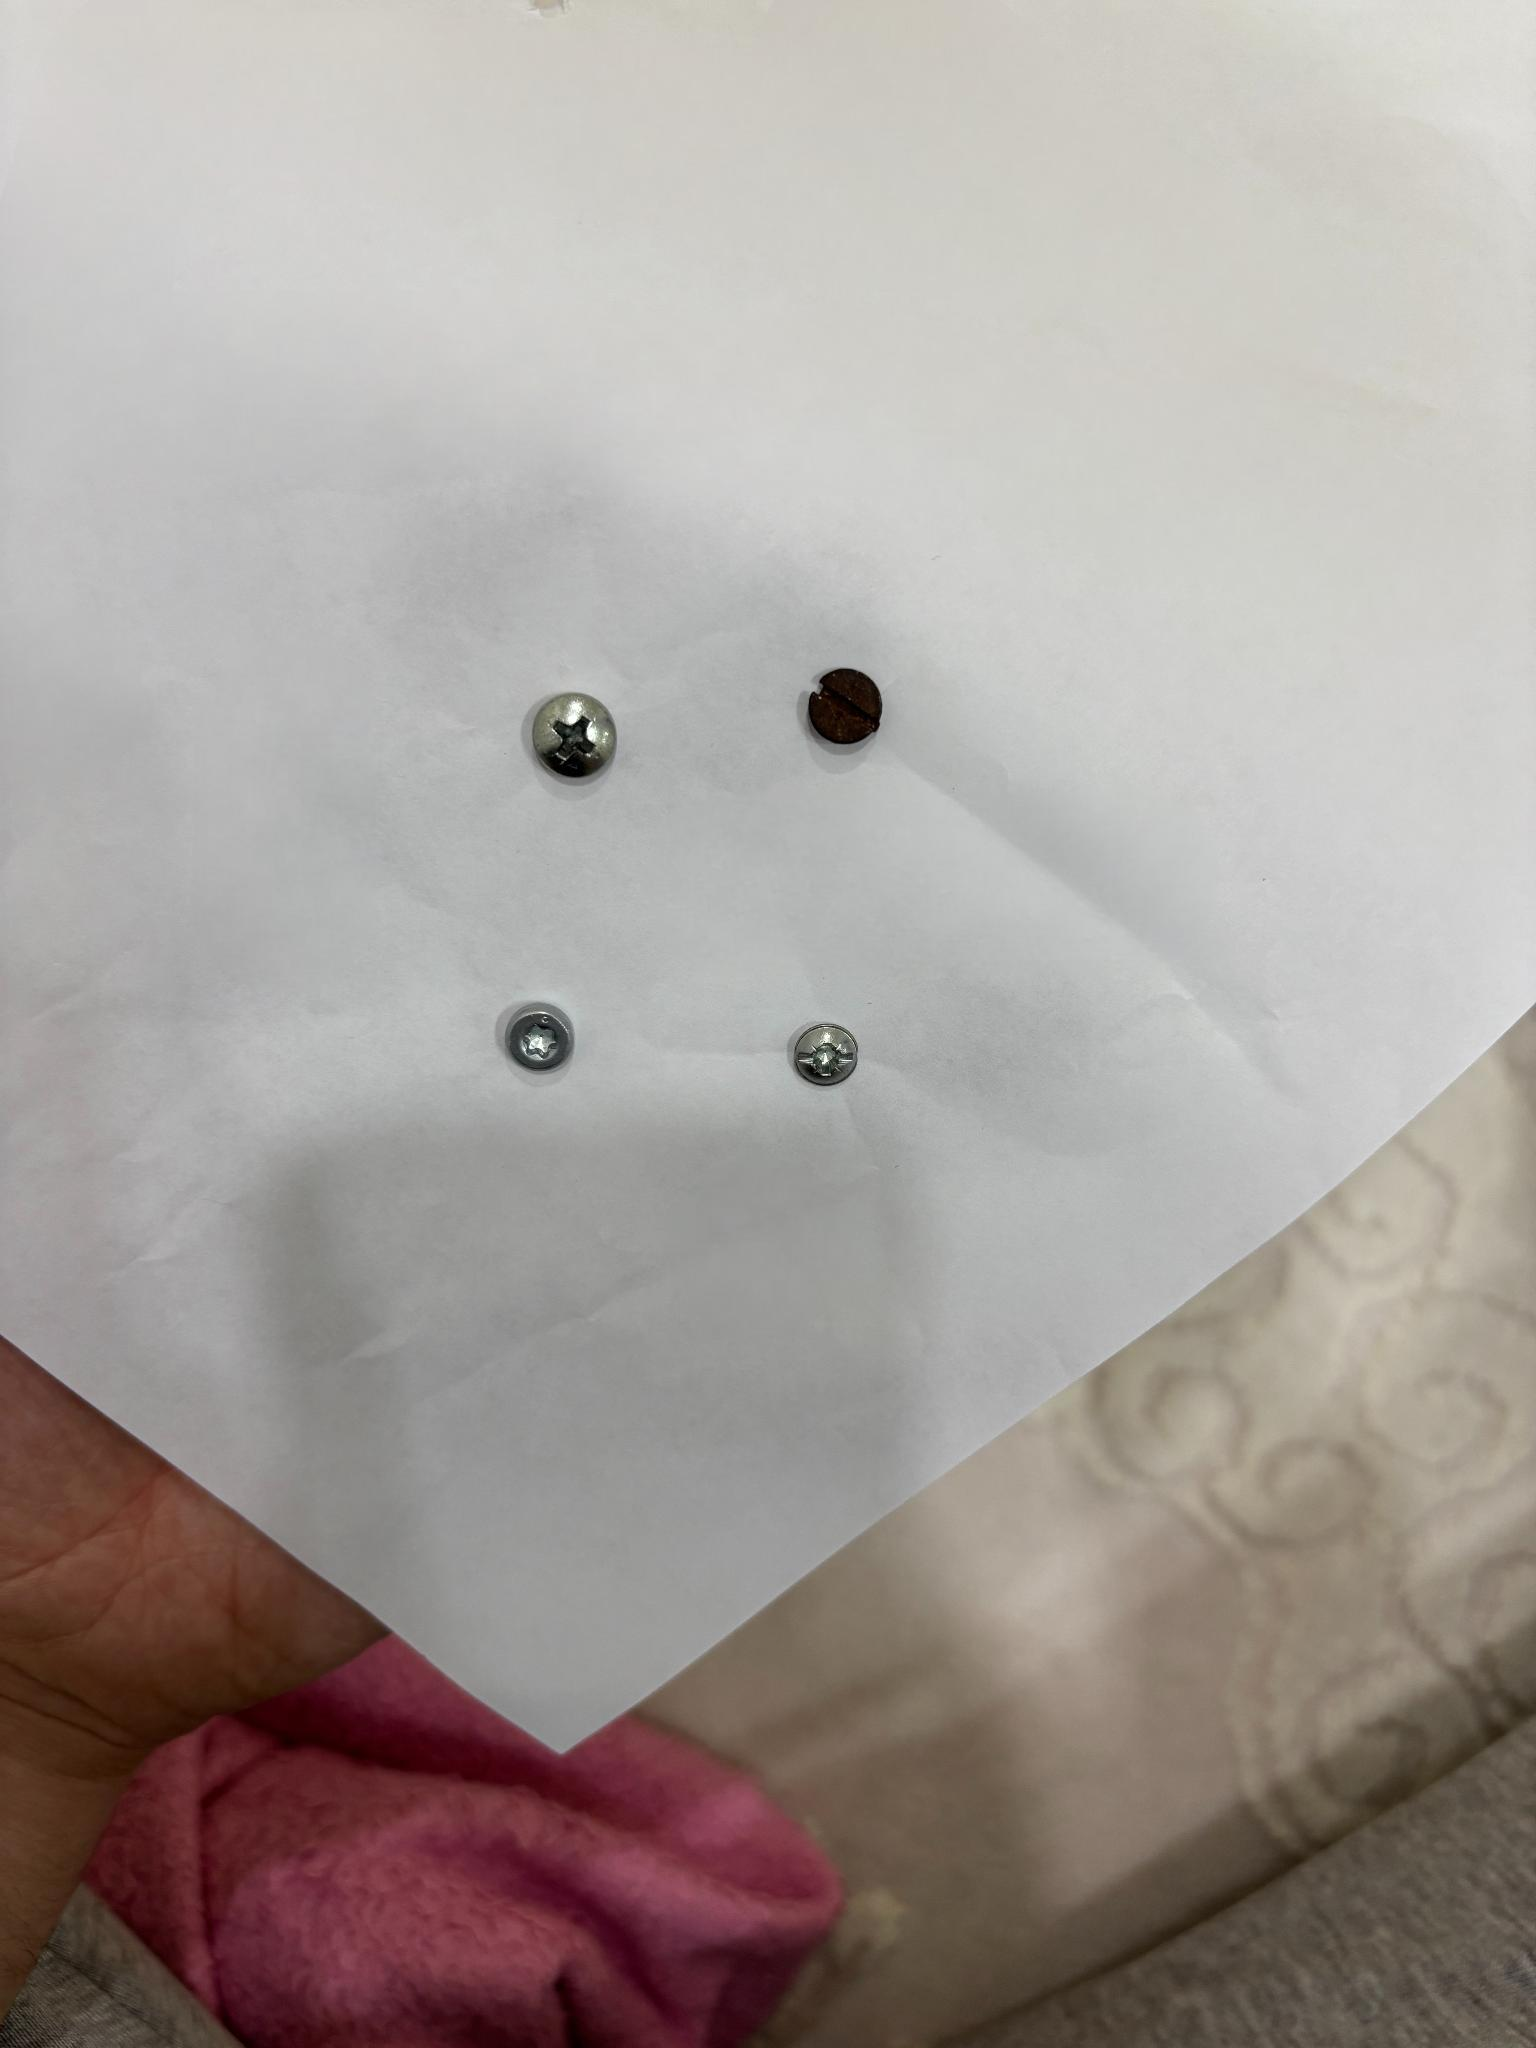PH: (532, 693, 616, 779)
PZ: (794, 1024, 858, 1085)
SL: (807, 669, 883, 745)
T: (505, 1006, 573, 1069)
